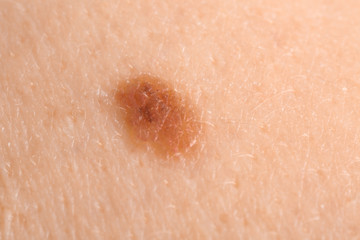melanoma: (94, 70, 219, 165)
